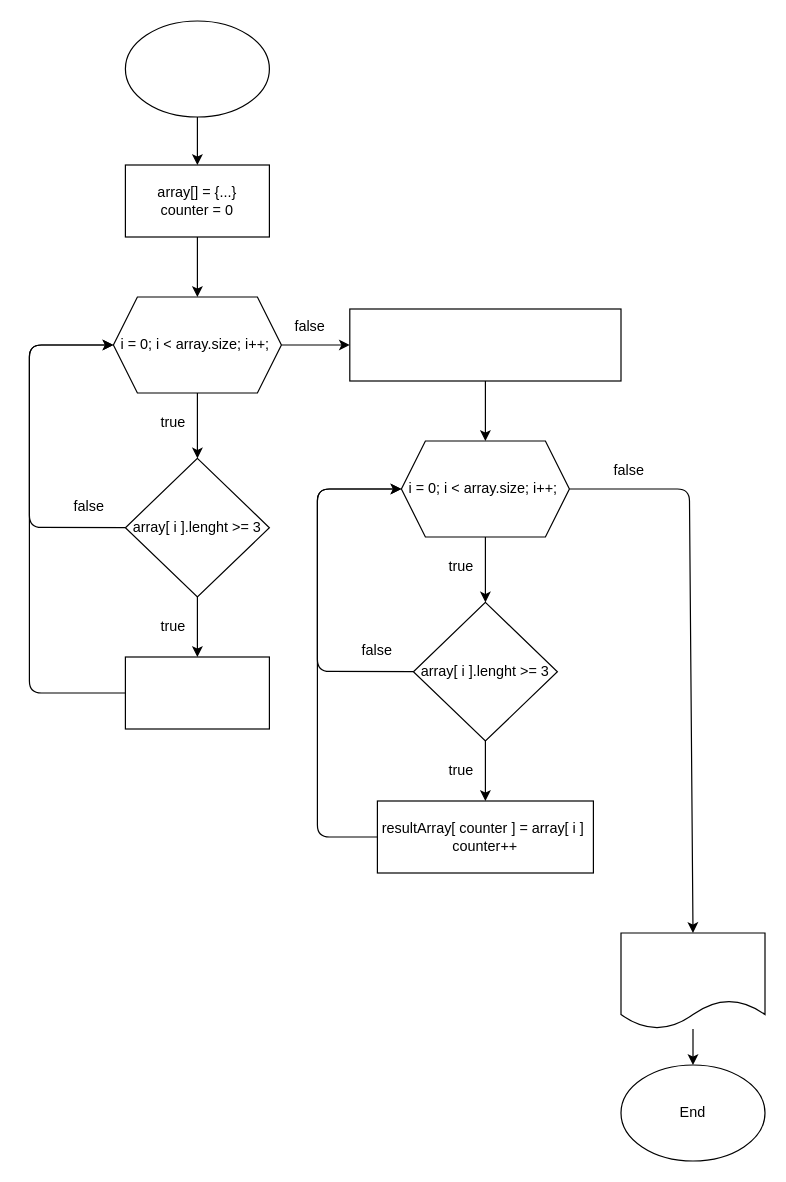
The diagram is 786 pixels wide and 1182 high, and some of its shapes have lost their labels. Each missing label, with the box of its shape:
counter++: (124, 656, 269, 729)
print resultArray[ ]: (620, 932, 765, 1029)
resultArray[ ] = new array [ counter ] counter = 0: (349, 308, 621, 381)
Start: (124, 20, 269, 117)
